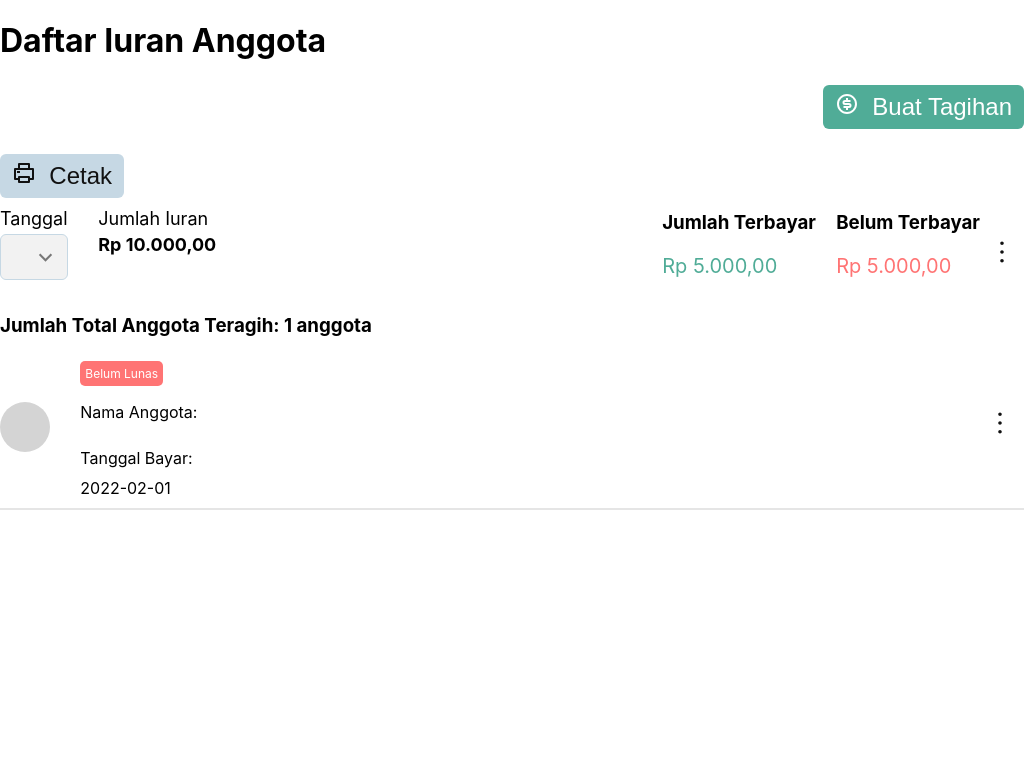
Admin successfully remove dues
Expected: the dropdown with test id "select-comp" is shown, [1,235,67,279]
Click the button with test id "option-dues-btn" at point(1002, 252), box [980,230,1023,274]
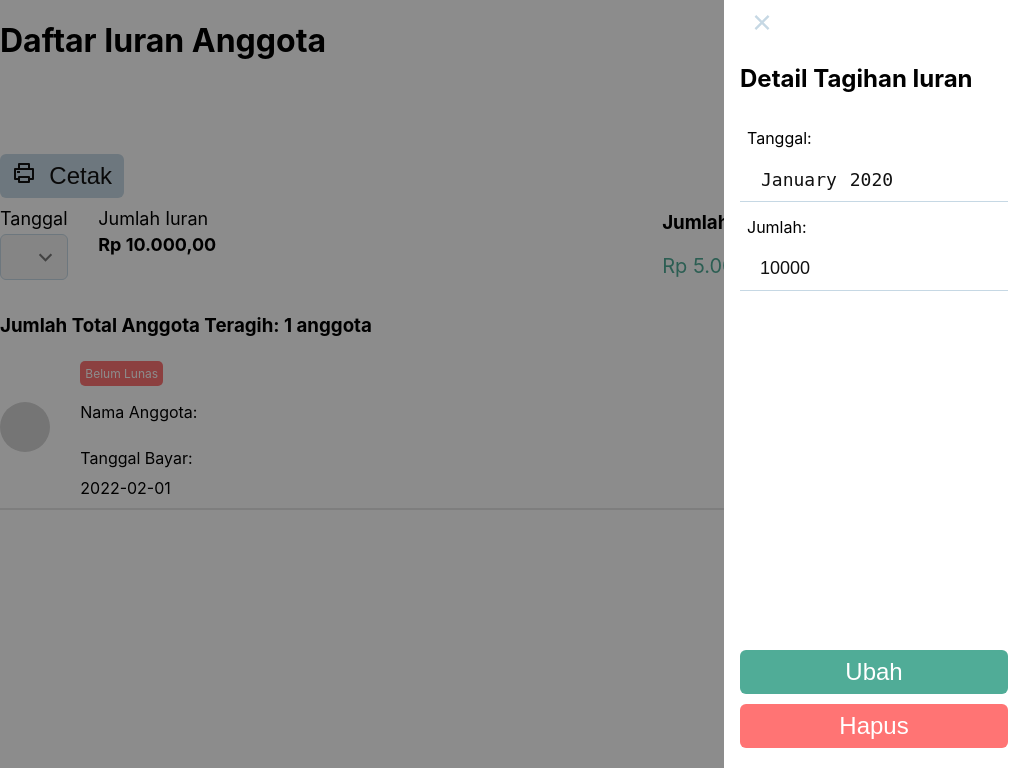
Click the button with test id "remove-dues-btn" at point(874, 726), box [740,704,1008,748]
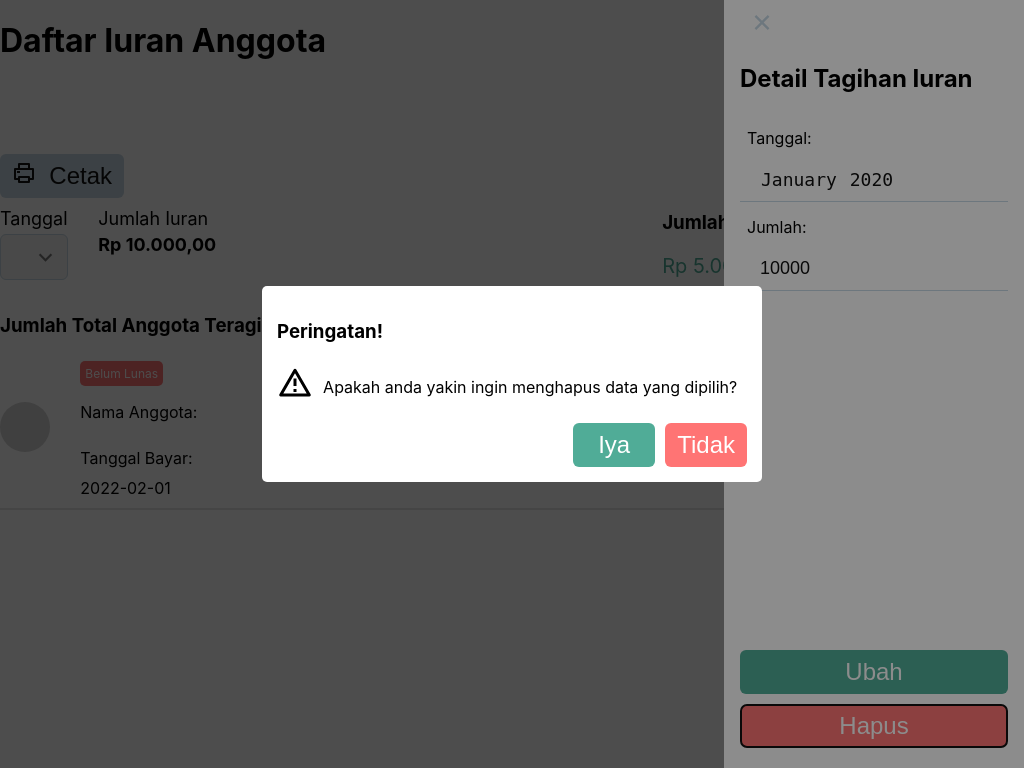
Expected: the button with test id "popup-modal-conf-btn" is shown
Click the button with test id "popup-modal-conf-btn" at point(614, 445), box [573,423,655,467]
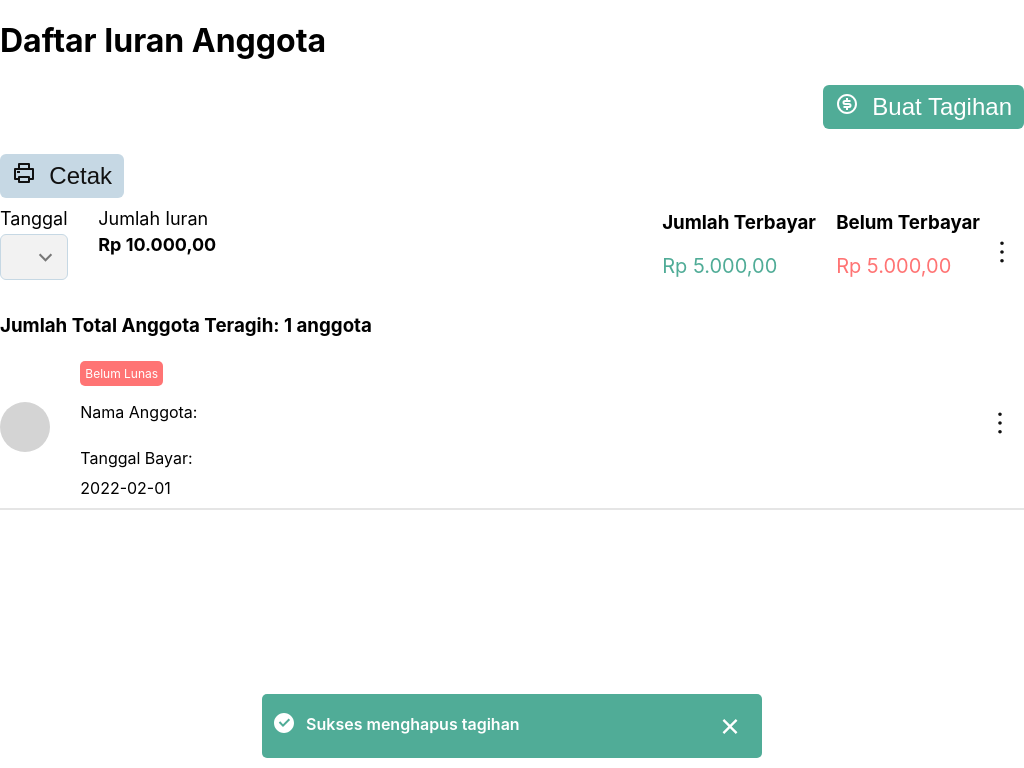
Expected: the button with test id "popup-modal-conf-btn" is gone
